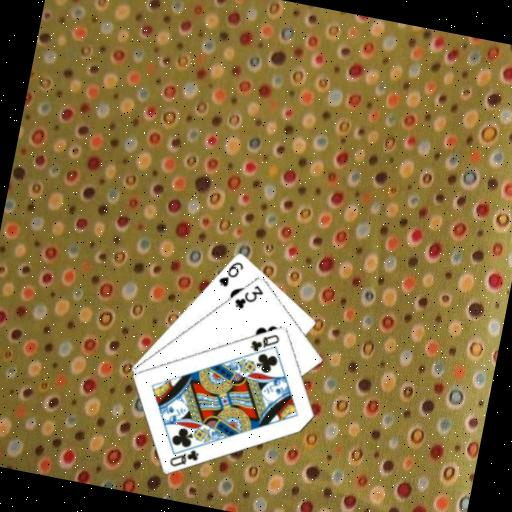3C: (230, 278, 267, 315)
6S: (215, 255, 246, 291)
QC: (247, 326, 283, 357), (166, 442, 202, 473)
